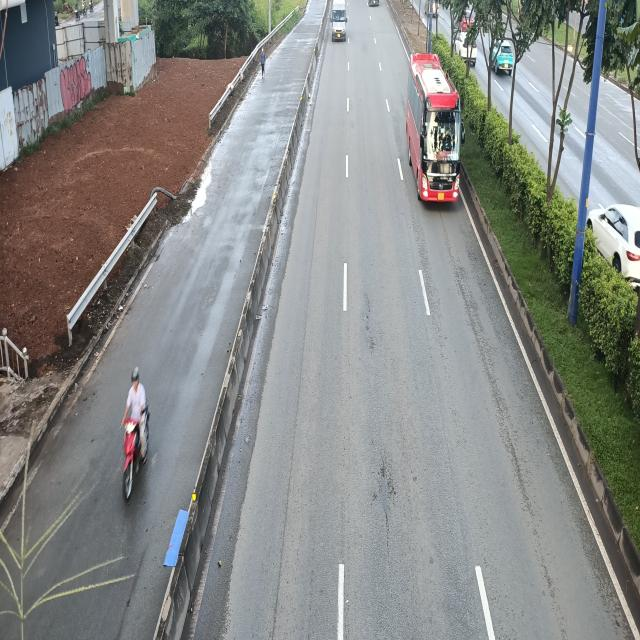coach: (405, 54, 464, 208)
van: (332, 0, 348, 43)
